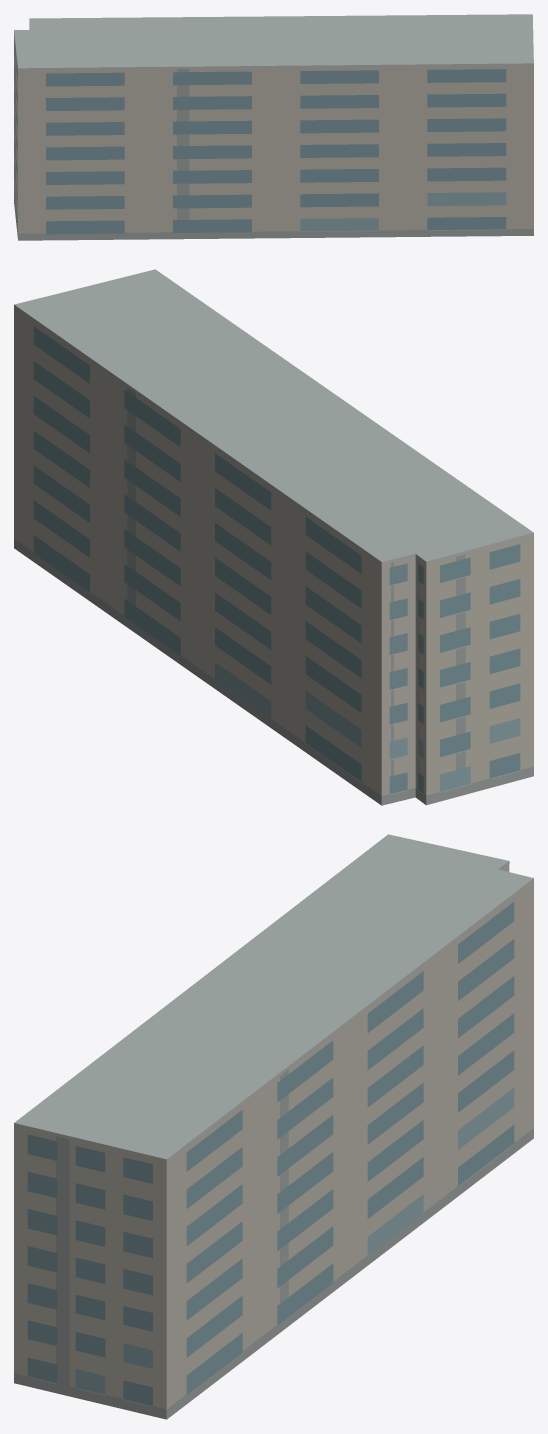
The model's file is survey-upis-32869806.glb.
3 renders of one model, top to bottom at view 1: azimuth 30°, elevation 25°; view 2: azimuth 150°, elevation 25°; view 3: azimuth 270°, elevation 25°, orthographic. The views are drawn at different scales.
Visible parts, largest first — view 1: survey-upis-32869806.tmp; view 2: survey-upis-32869806.tmp; view 3: survey-upis-32869806.tmp.
Part boxes in pixels (left/top/right/bottom): survey-upis-32869806.tmp: left=14, top=14, right=533, bottom=240; survey-upis-32869806.tmp: left=14, top=269, right=533, bottom=805; survey-upis-32869806.tmp: left=14, top=834, right=533, bottom=1419.
Size of the model in its own units: 49.82 by 18.6 by 33.68.
